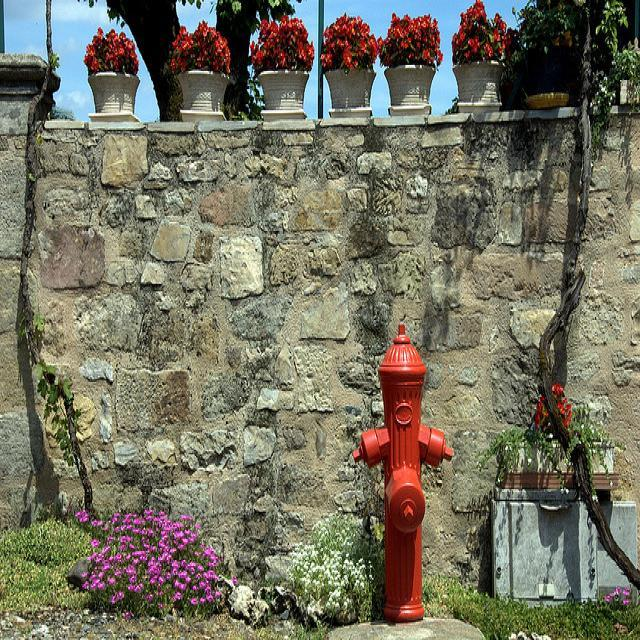fire_hydrant: (352, 322, 452, 618)
